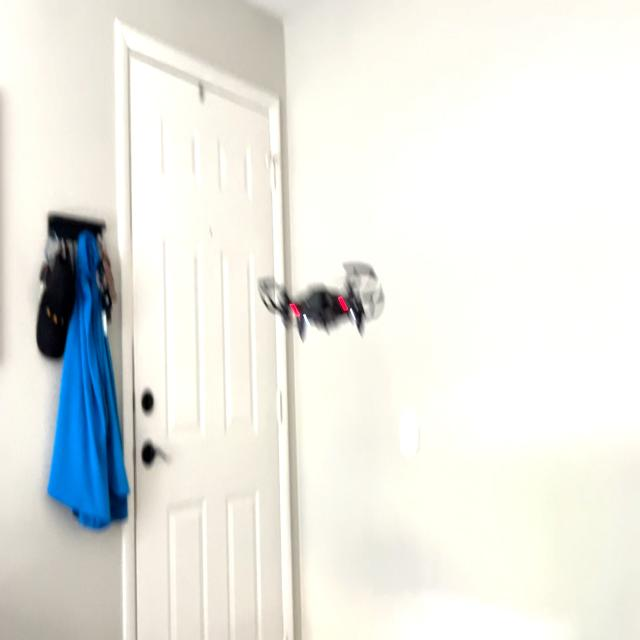drone: (247, 245, 396, 348)
